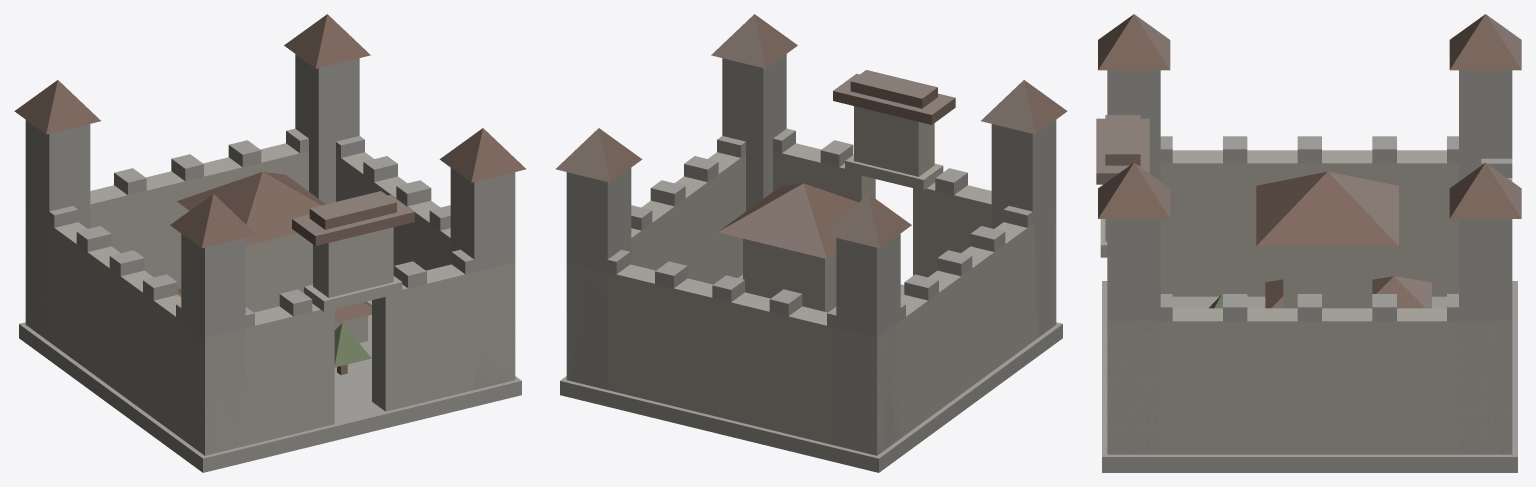
The model's file is commandery-major.gltf.
The picture shows the model from 3 angles, left to right: view 1: azimuth 30°, elevation 25°; view 2: azimuth 150°, elevation 25°; view 3: azimuth 270°, elevation 25°; orthographic projection. The views are drawn at different scales.
Parts seen in each view (by area): view 1: building-commandery-major; view 2: building-commandery-major; view 3: building-commandery-major.
Boxes of the visible parts, x1,y1,x2,y2 form: building-commandery-major: (14, 14, 526, 472); building-commandery-major: (555, 14, 1067, 472); building-commandery-major: (1096, 14, 1521, 472).
Size of the model in its own units: 0.952 by 0.736 by 0.956.
